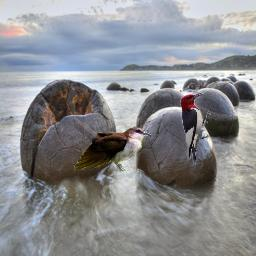Cuckoo: (74, 97, 152, 173)
Woodpecker: (180, 92, 211, 166)
